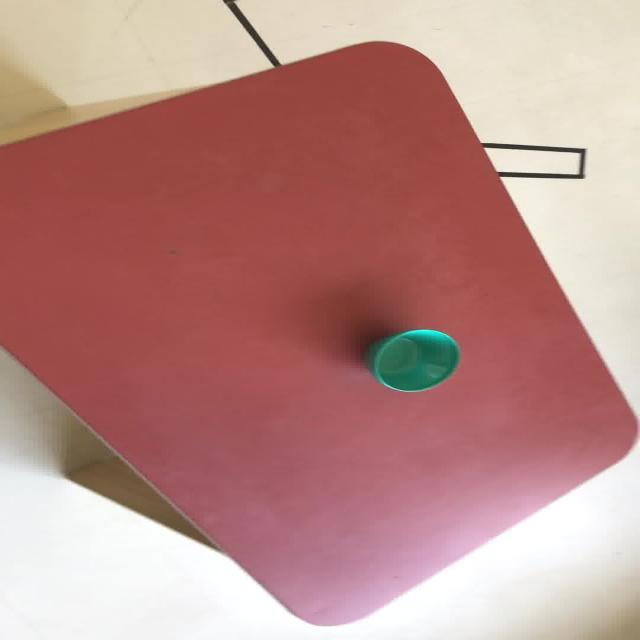bowl: (1, 39, 637, 626), (367, 328, 460, 392)
